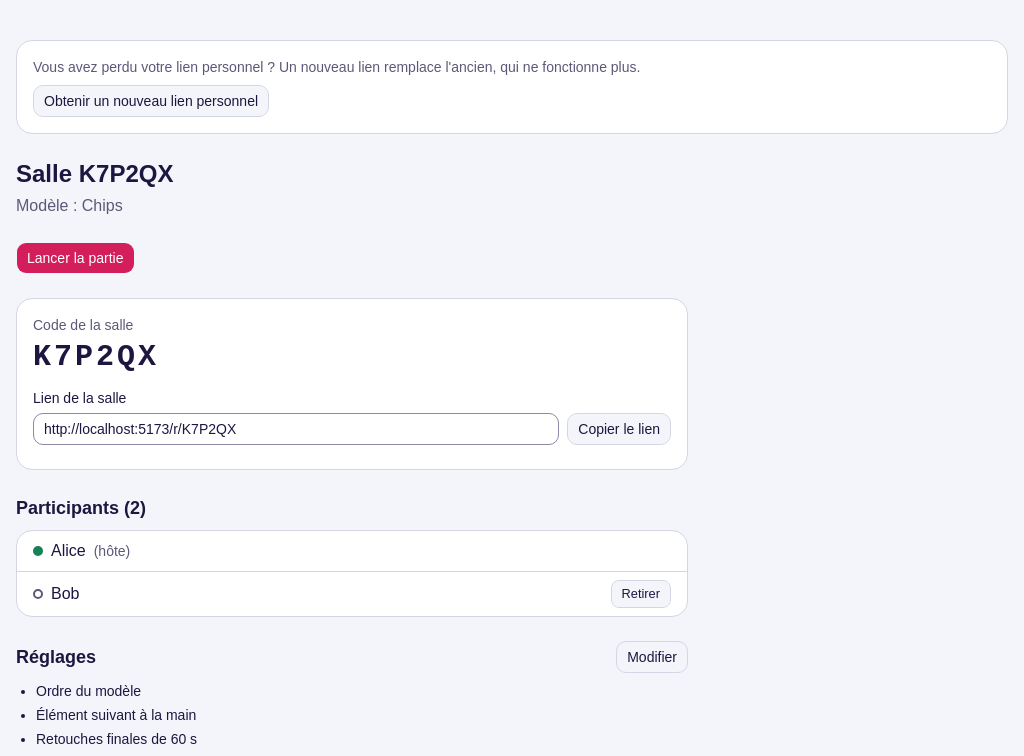
it: RoomPage › asks to copy the link by hand when the clipboard refuses
Click the button "Copier le lien": (619, 429) [567,413,671,445]
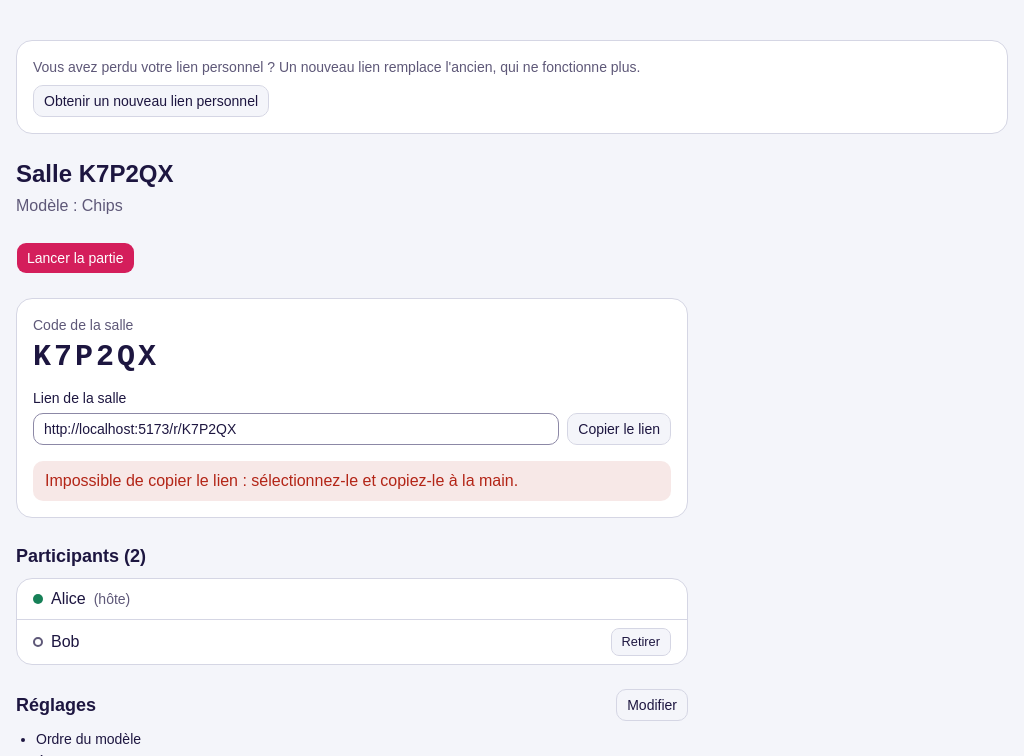
expect the message shows "copiez-le à la main": met, box [45,472,518,489]
